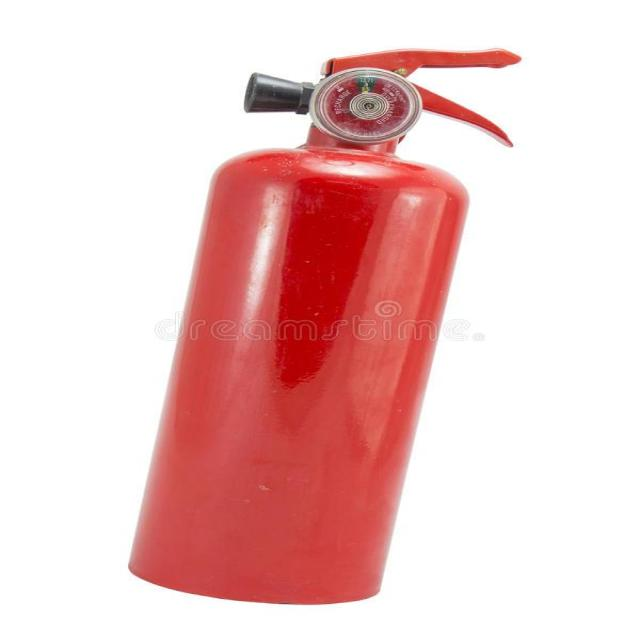fire_extinguisher: (115, 44, 525, 610)
